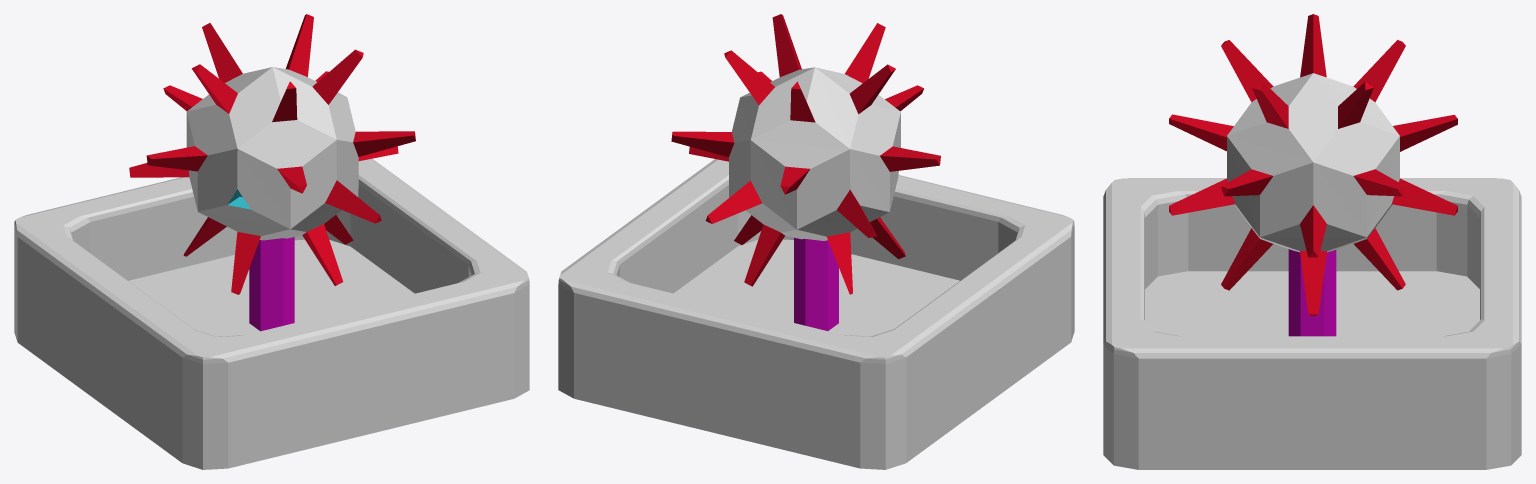
The model's file is ProbeLoader.fbx.
The picture shows the model from 3 angles, left to right: view 1: azimuth 30°, elevation 25°; view 2: azimuth 150°, elevation 25°; view 3: azimuth 270°, elevation 25°; orthographic projection. The views are drawn at different scales.
Parts seen in each view (by area): view 1: Base, Probe; view 2: Base, Probe; view 3: Base, Probe.
Boxes of the visible parts, bbox=[...] form: Base: bbox=[14, 158, 529, 469]; Probe: bbox=[129, 14, 415, 331]; Base: bbox=[558, 159, 1074, 469]; Probe: bbox=[671, 14, 940, 330]; Base: bbox=[1103, 178, 1521, 469]; Probe: bbox=[1169, 14, 1457, 336].
Bounding box in the file's own units: 282 × 247 × 282.
